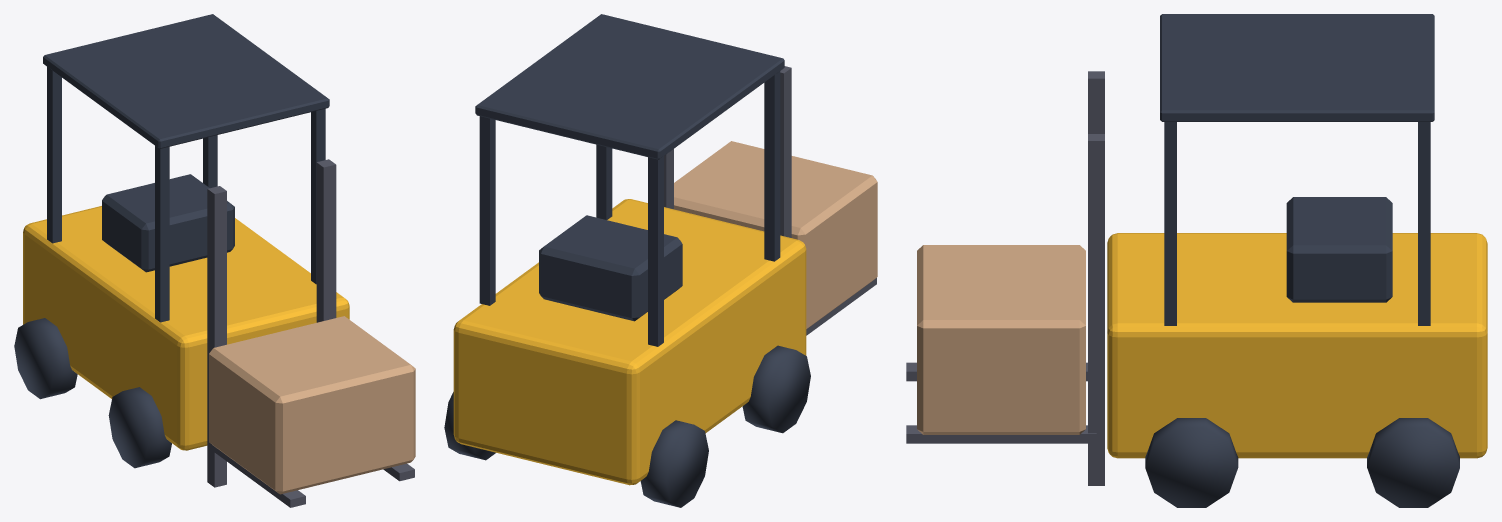
File: forklift.glb
3 views of the same model, side by side, from view 1: azimuth 30°, elevation 25°; view 2: azimuth 150°, elevation 25°; view 3: azimuth 270°, elevation 25° (orthographic). The views are drawn at different scales.
Parts seen in each view (by area): view 1: forklift, forklift_crate, forklift_roof, forklift_seat, forklift_mast0, forklift_wheel0, forklift_wheel2, forklift_mast1, forklift_post0, forklift_post2, forklift_post1, forklift_fork0 (+1 smaller); view 2: forklift, forklift_roof, forklift_crate, forklift_seat, forklift_wheel0, forklift_wheel2, forklift_post3, forklift_post0, forklift_post2, forklift_mast0, forklift_post1, forklift_wheel3 (+2 smaller); view 3: forklift, forklift_crate, forklift_roof, forklift_seat, forklift_wheel1, forklift_wheel3, forklift_mast1, forklift_post1, forklift_post3, forklift_fork1, forklift_mast0.
Boxes of the visible parts, x1,y1,x2,y2 form: forklift: [23, 206, 349, 450]; forklift_crate: [209, 316, 415, 494]; forklift_roof: [43, 14, 329, 148]; forklift_seat: [102, 174, 234, 272]; forklift_mast0: [207, 186, 226, 487]; forklift_wheel0: [108, 387, 171, 468]; forklift_wheel2: [14, 318, 77, 399]; forklift_mast1: [316, 159, 336, 322]; forklift_post0: [155, 146, 169, 322]; forklift_post2: [47, 67, 61, 243]; forklift_post1: [311, 108, 325, 284]; forklift_fork0: [209, 443, 305, 507]; forklift: [453, 199, 806, 485]; forklift_roof: [475, 14, 784, 159]; forklift_crate: [674, 141, 877, 329]; forklift_seat: [539, 215, 682, 321]; forklift_wheel0: [742, 345, 810, 433]; forklift_wheel2: [640, 420, 708, 507]; forklift_post3: [479, 116, 495, 305]; forklift_post0: [764, 71, 780, 261]; forklift_post2: [648, 156, 663, 346]; forklift_mast0: [780, 66, 791, 237]; forklift_post1: [596, 144, 612, 219]; forklift_wheel3: [444, 392, 495, 460]; forklift: [1107, 233, 1487, 458]; forklift_crate: [917, 245, 1085, 434]; forklift_roof: [1160, 14, 1434, 121]; forklift_seat: [1286, 197, 1392, 302]; forklift_wheel1: [1145, 418, 1238, 507]; forklift_wheel3: [1367, 418, 1459, 507]; forklift_mast1: [1088, 134, 1104, 485]; forklift_post1: [1164, 122, 1176, 325]; forklift_post3: [1418, 122, 1430, 325]; forklift_fork1: [906, 425, 1096, 443]; forklift_mast0: [1088, 71, 1104, 133].
Size of the model in its own units: 1.32 by 2.03 by 2.75.
